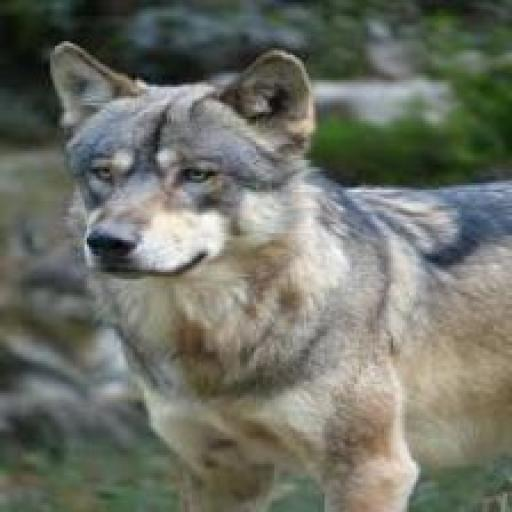wolf: (18, 20, 511, 512)
